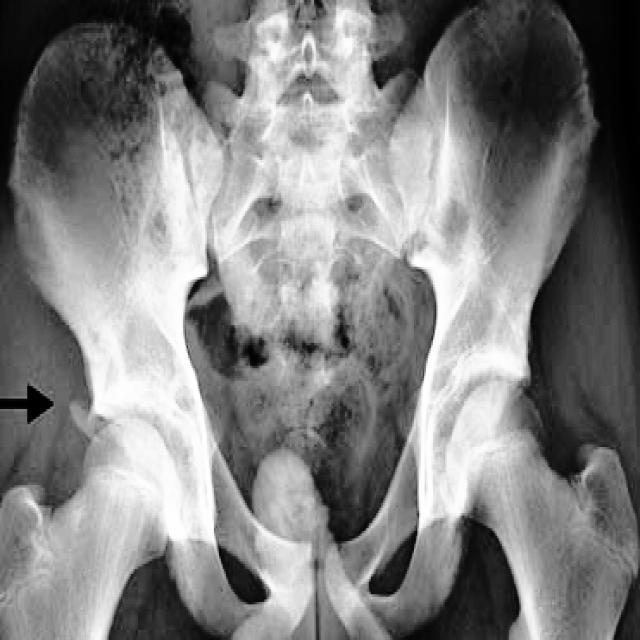Avlusion Fracture: (44, 378, 106, 446)
